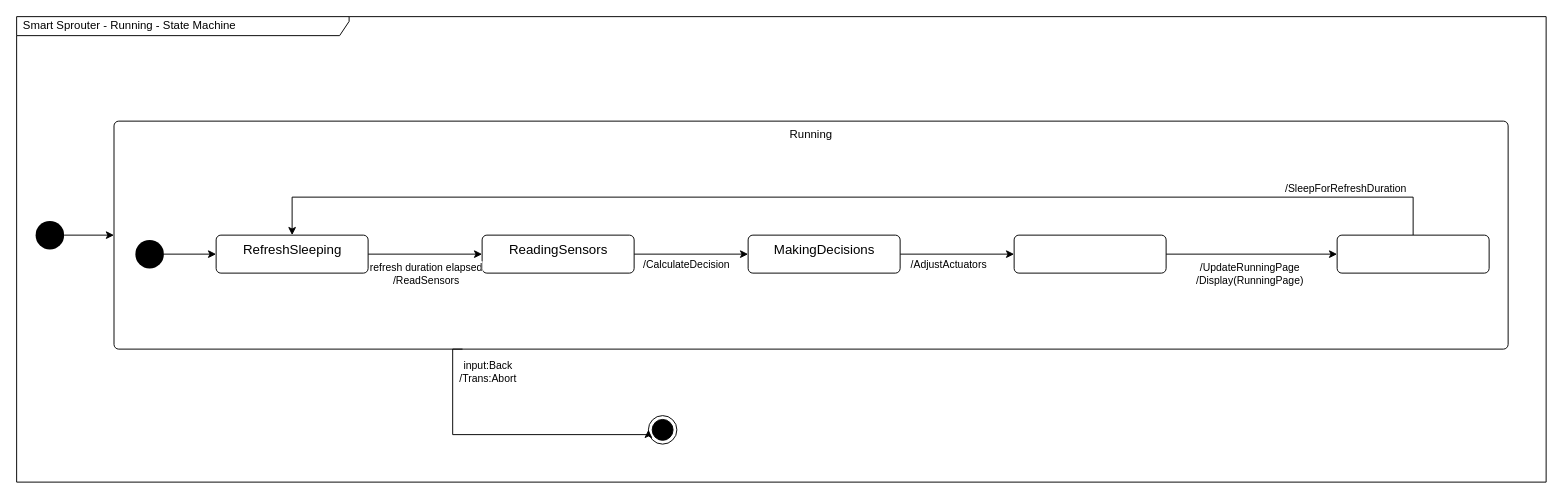
The diagram is 1563 pixels wide and 499 high, and some of its shapes have lost their labels. The centre of each missing label's shape, as x and y in pixels:
"AdjustingActuators" belongs at point 1089,253.
"RefreshingDisplay" belongs at point 1412,253.
